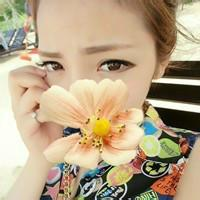face: (29, 1, 162, 160)
